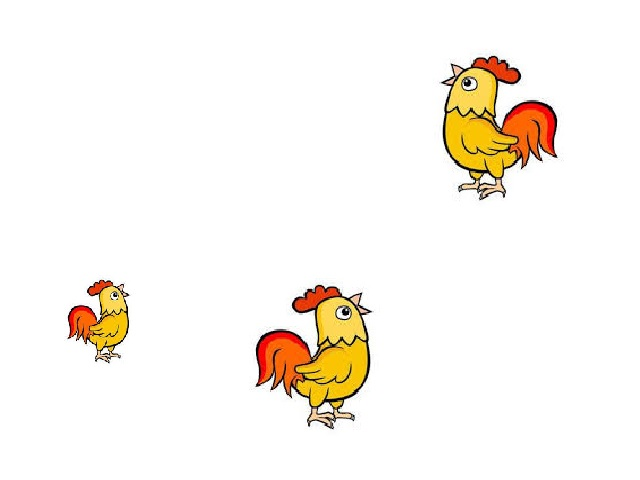crown: (295, 282, 340, 314), (473, 55, 521, 82), (84, 280, 113, 293)
eyes: (462, 74, 480, 96), (335, 304, 350, 322), (109, 288, 121, 302)
feet: (307, 408, 355, 432), (462, 176, 511, 199), (90, 351, 125, 366)
tail: (255, 333, 311, 395), (507, 102, 557, 168), (67, 306, 95, 342)
